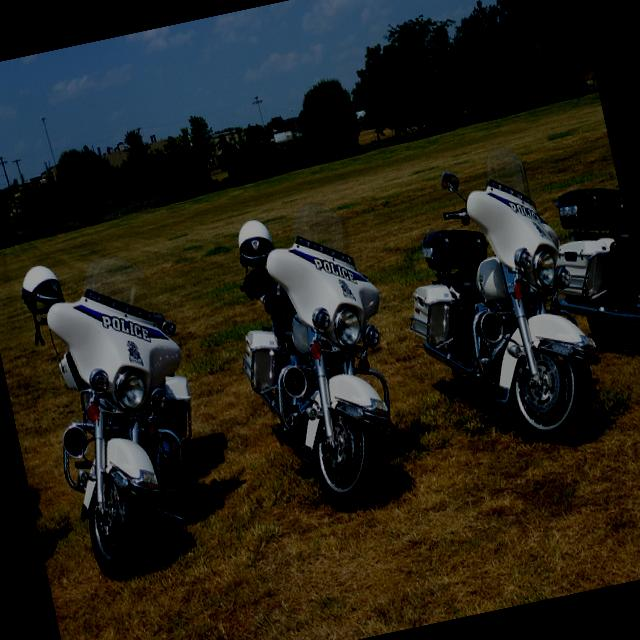Vehicle: (376, 142, 617, 473), (15, 238, 226, 590), (213, 196, 424, 525), (534, 165, 640, 368)
